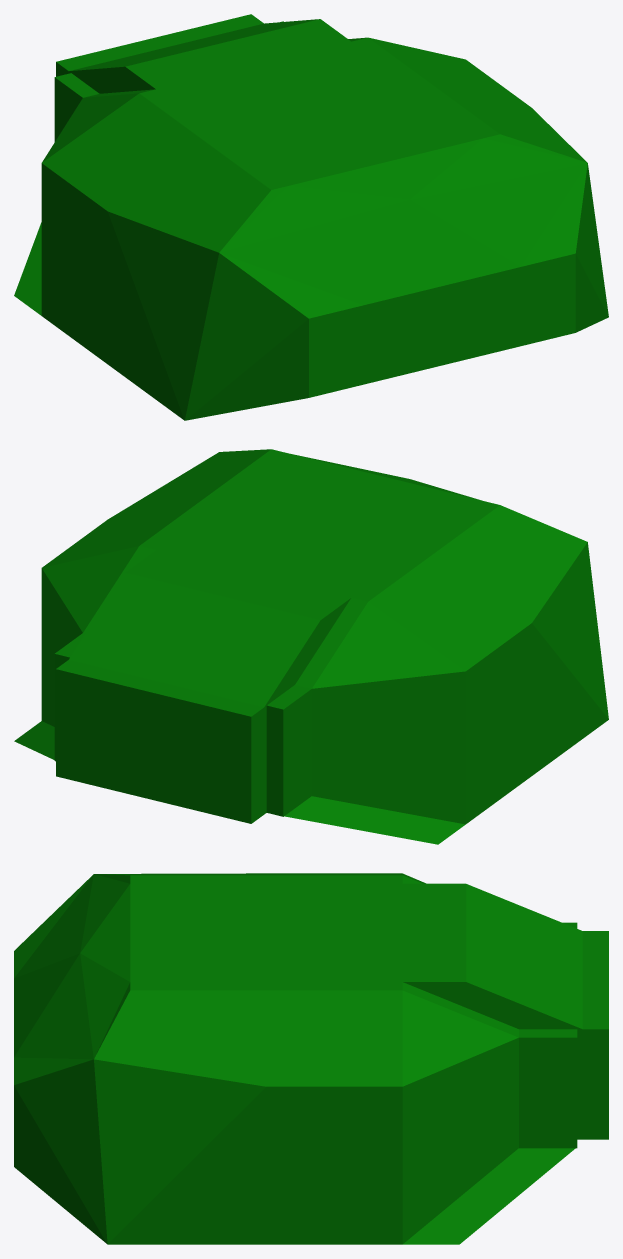
File: tank_turret_1.obj
3 renders of one model, top to bottom at view 1: azimuth 30°, elevation 25°; view 2: azimuth 150°, elevation 25°; view 3: azimuth 270°, elevation 25°, orthographic. The views are drawn at different scales.
Parts seen in each view (by area): view 1: Turret; view 2: Turret; view 3: Turret.
Part boxes in pixels (x1,y1,x2,y2): Turret: (14,14,608,420); Turret: (14,449,608,844); Turret: (14,873,608,1244).
Size of the model in its own units: 2.97 by 1.33 by 3.51.
